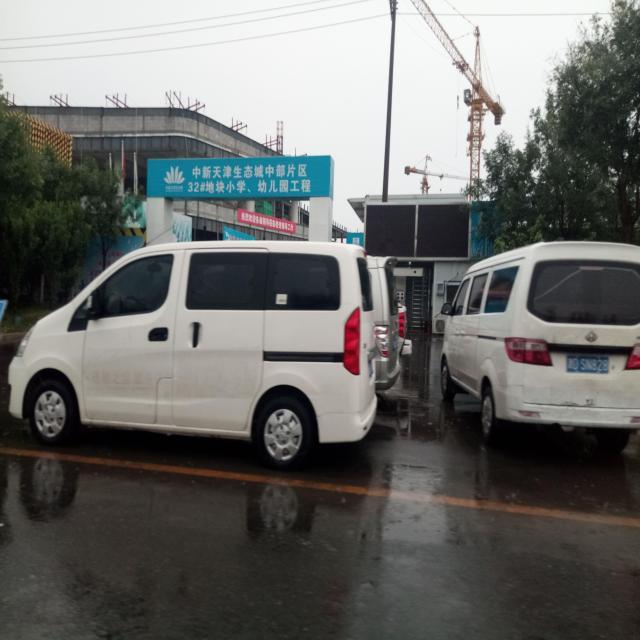car: (7, 242, 377, 469), (438, 238, 640, 454), (379, 252, 401, 392)
